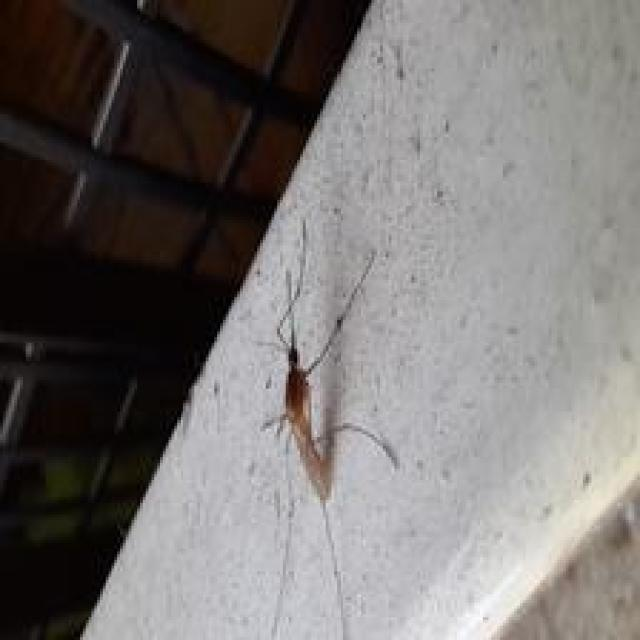Culex: (254, 237, 400, 640)
